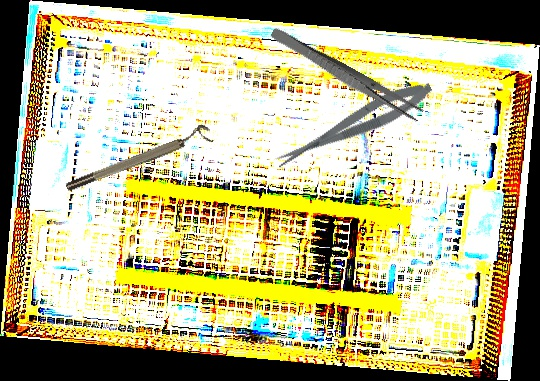Dressing Forceps: (267, 25, 425, 125)
Fixation Ring: (62, 122, 214, 194)
Micro Scissor: (269, 74, 438, 174)
